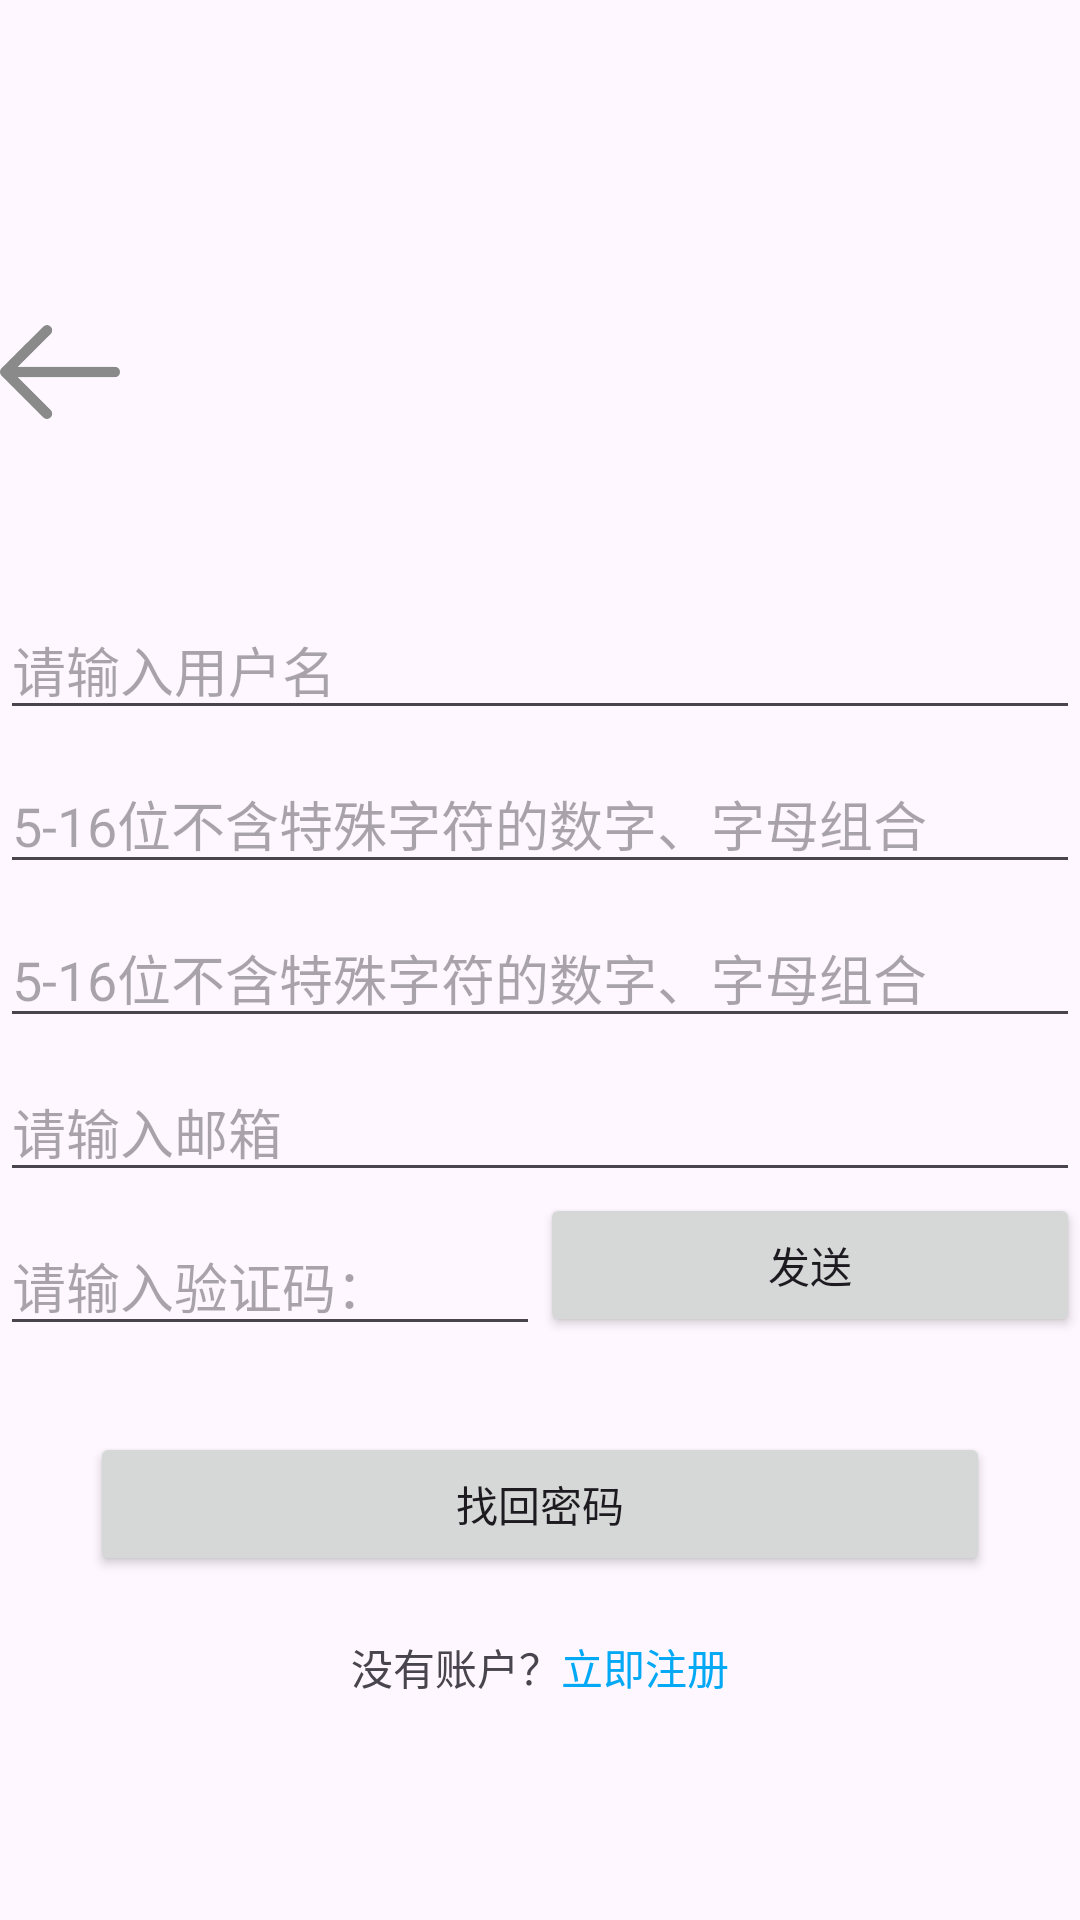

Where to tap for icons on this 1080px x 1920px app screen, as [x,y]:
ret: [60,372]
